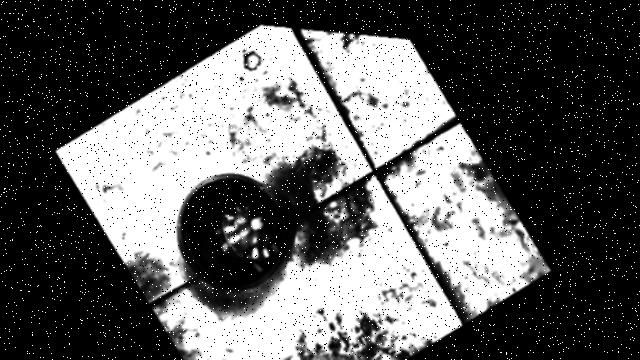pot: (177, 175, 294, 291)
